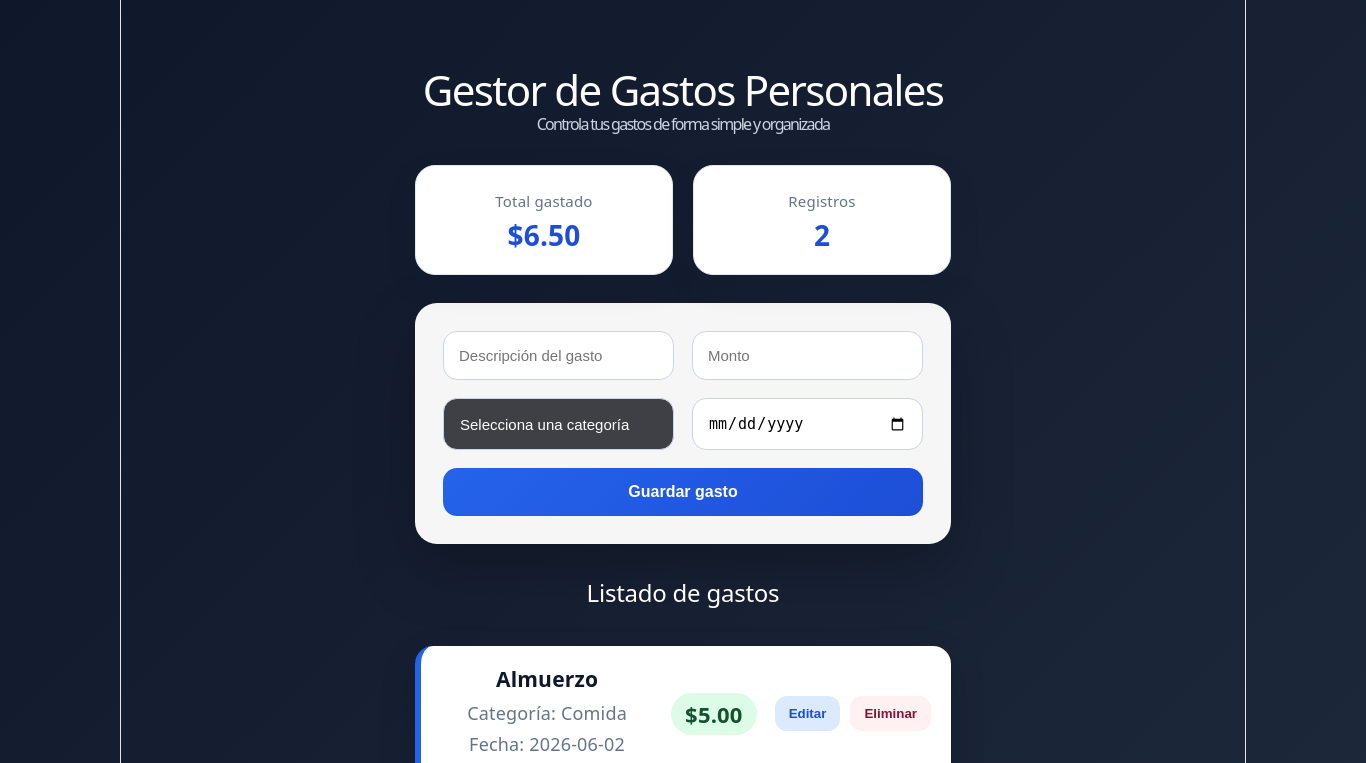
it: Gestor de Gastos › permite cancelar la edición
Expected: the heading "Almuerzo" is shown, [496,664,598,693]
Click the button "Editar".
click(808, 714)  # box [775,696,840,731]
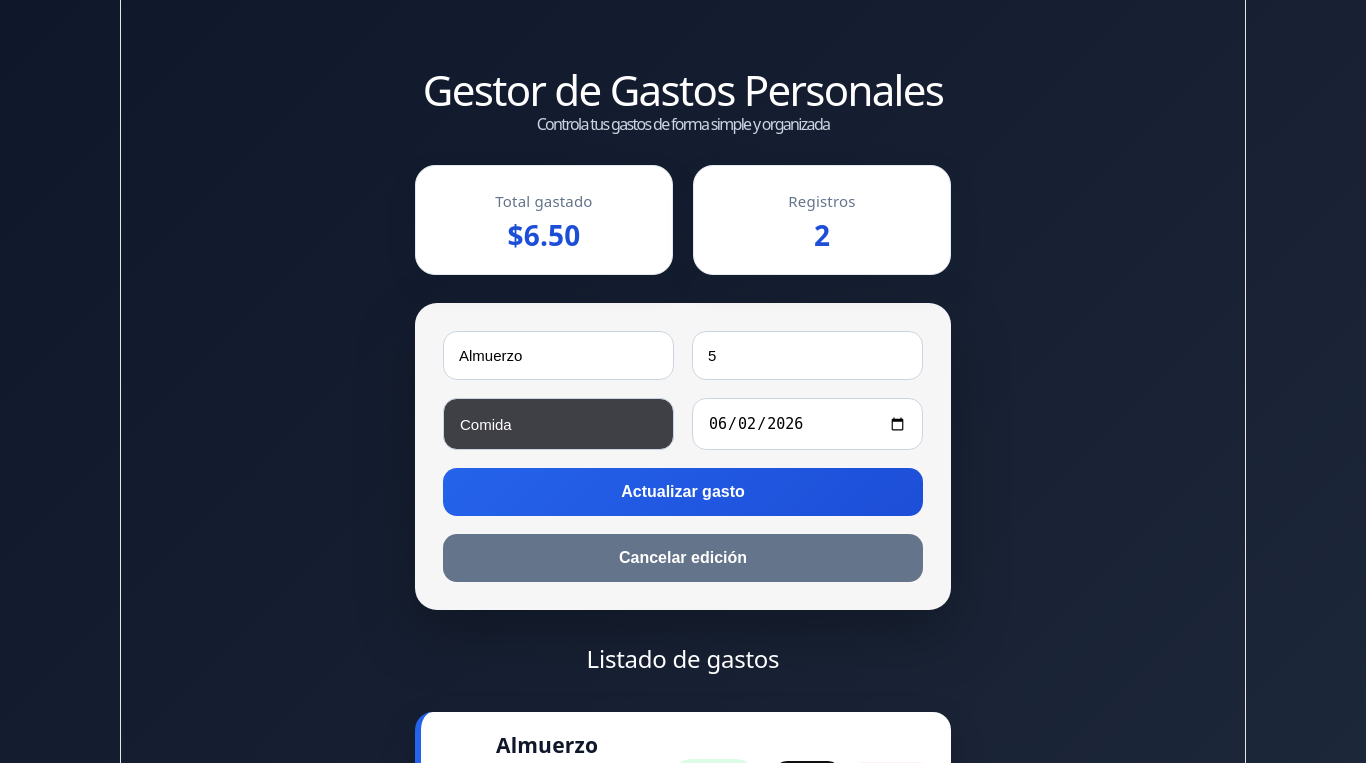
Click the button "Cancelar edición".
click(683, 558)  # box [443,534,923,582]
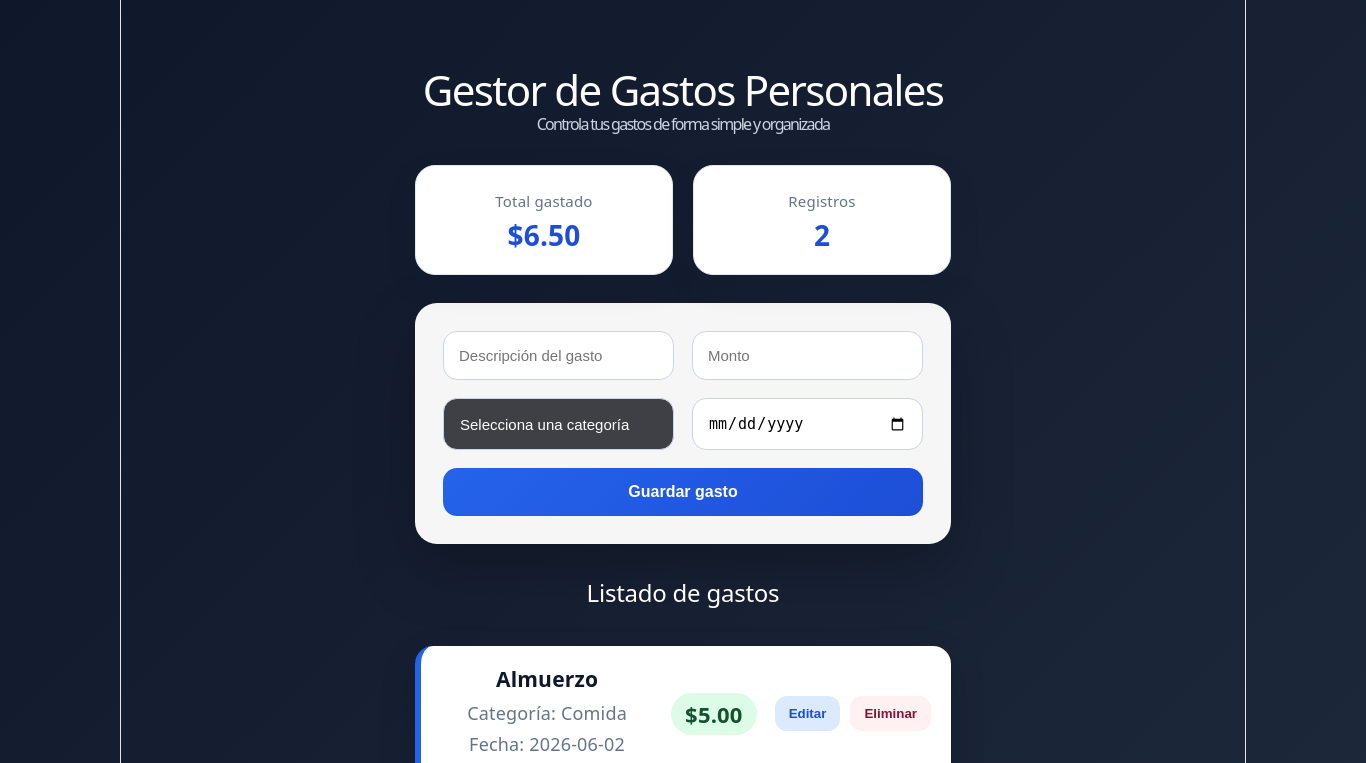
Expected: the button "Guardar gasto" is shown, [443,468,923,516]
